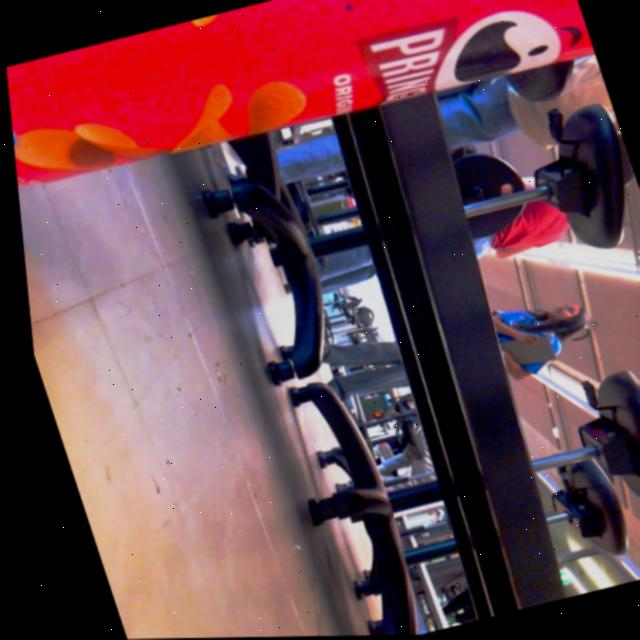redpringles: (0, 0, 615, 244)
